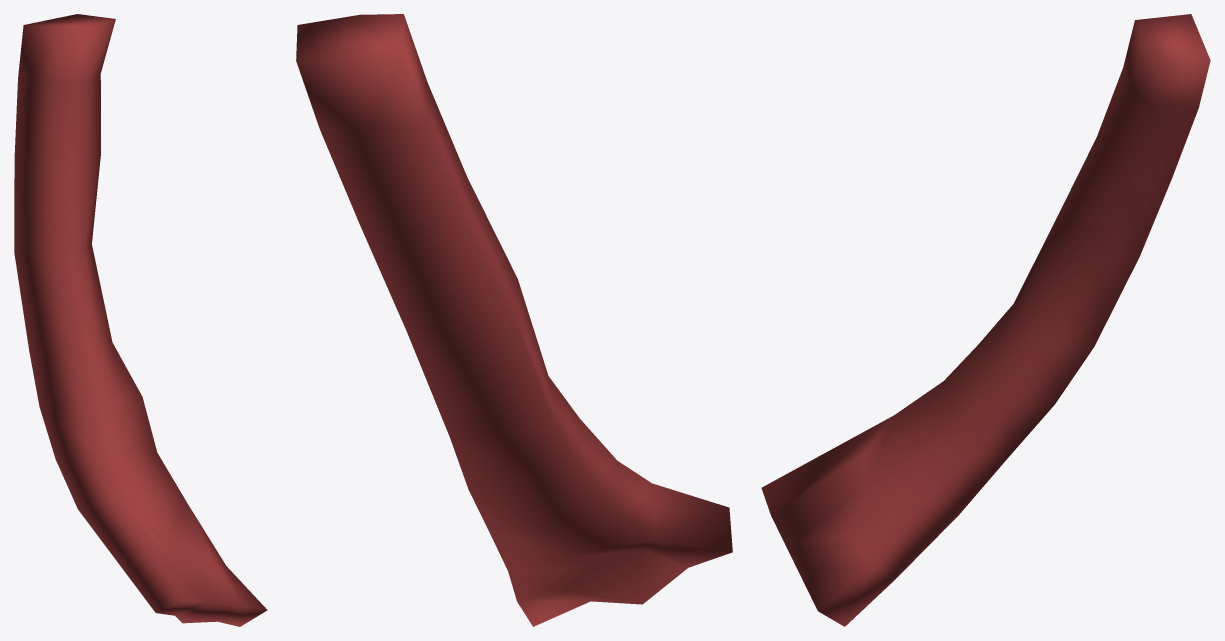
Rendered from tendon-sheath-of-extensor-digitorum-longus-l.glb.
3 views of the same model, side by side, from view 1: azimuth 30°, elevation 25°; view 2: azimuth 150°, elevation 25°; view 3: azimuth 270°, elevation 25° (orthographic). The views are drawn at different scales.
Parts seen in each view (by area): view 1: Tendon sheath of extensor digitorum longus.l; view 2: Tendon sheath of extensor digitorum longus.l; view 3: Tendon sheath of extensor digitorum longus.l.
Part boxes in pixels (<box>): Tendon sheath of extensor digitorum longus.l: <box>14,14,267,626</box>; Tendon sheath of extensor digitorum longus.l: <box>296,14,732,626</box>; Tendon sheath of extensor digitorum longus.l: <box>761,14,1210,626</box>.
Size of the model in its own units: 0.0206 by 0.0728 by 0.0507.
